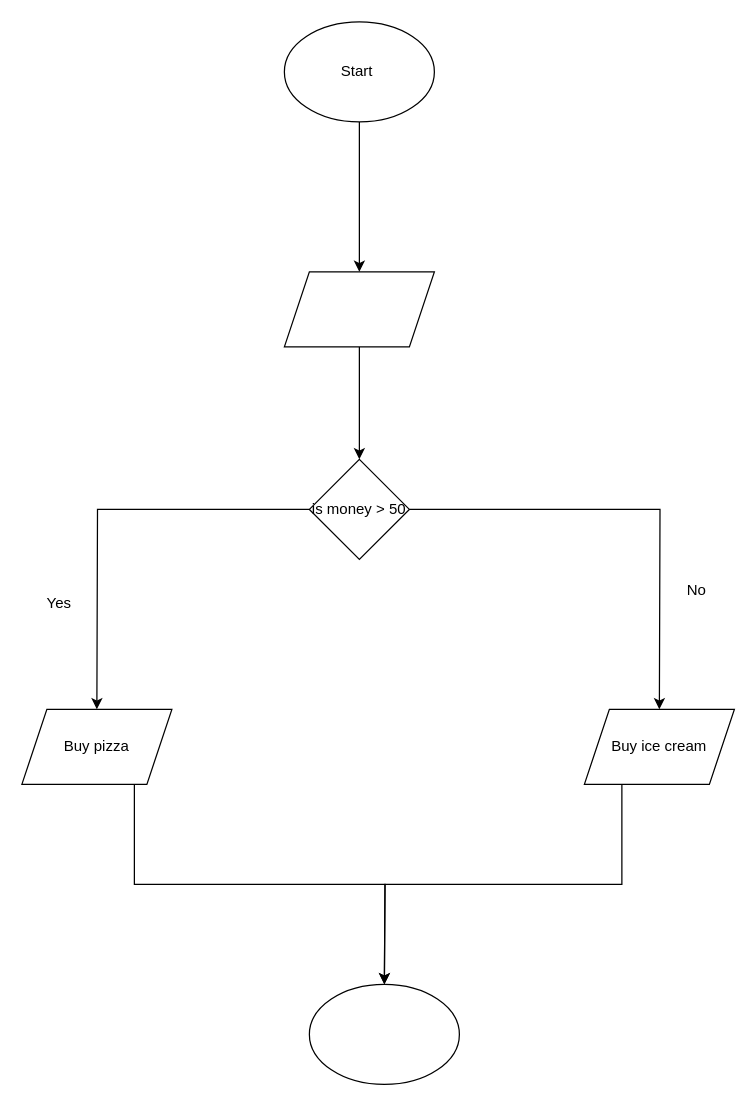
This 756x1106 diagram has some shape labels left out. The centre of each missing label's shape, as x and y in pixels:
Accept: Money: the point at 358,309
Stop: the point at 383,1033
